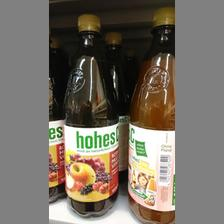Saft: (64, 11, 118, 216), (126, 6, 174, 222)
